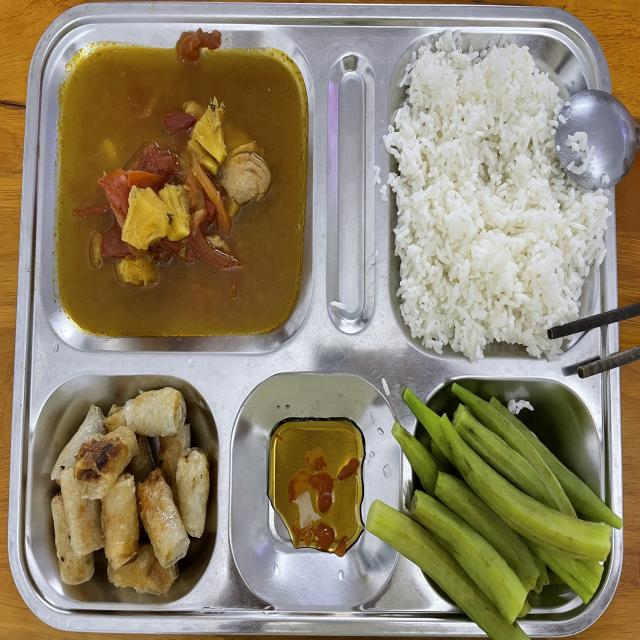com: (383, 35, 610, 360)
dau bap: (366, 383, 623, 640)
nuoc mam: (268, 418, 364, 556)
